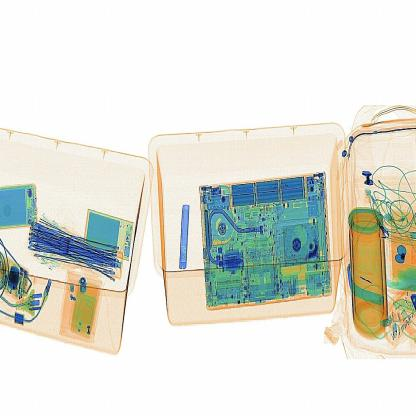pliers: (178, 200, 194, 276)
